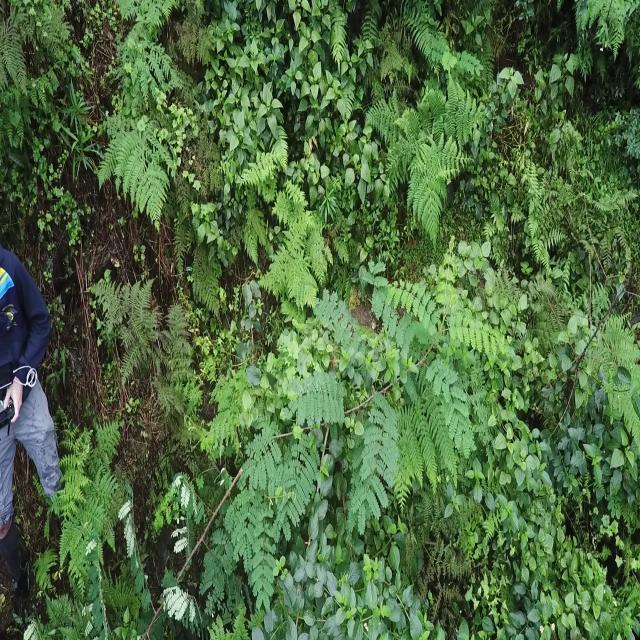Mysore-Thorn-Weed: (167, 239, 500, 640)
